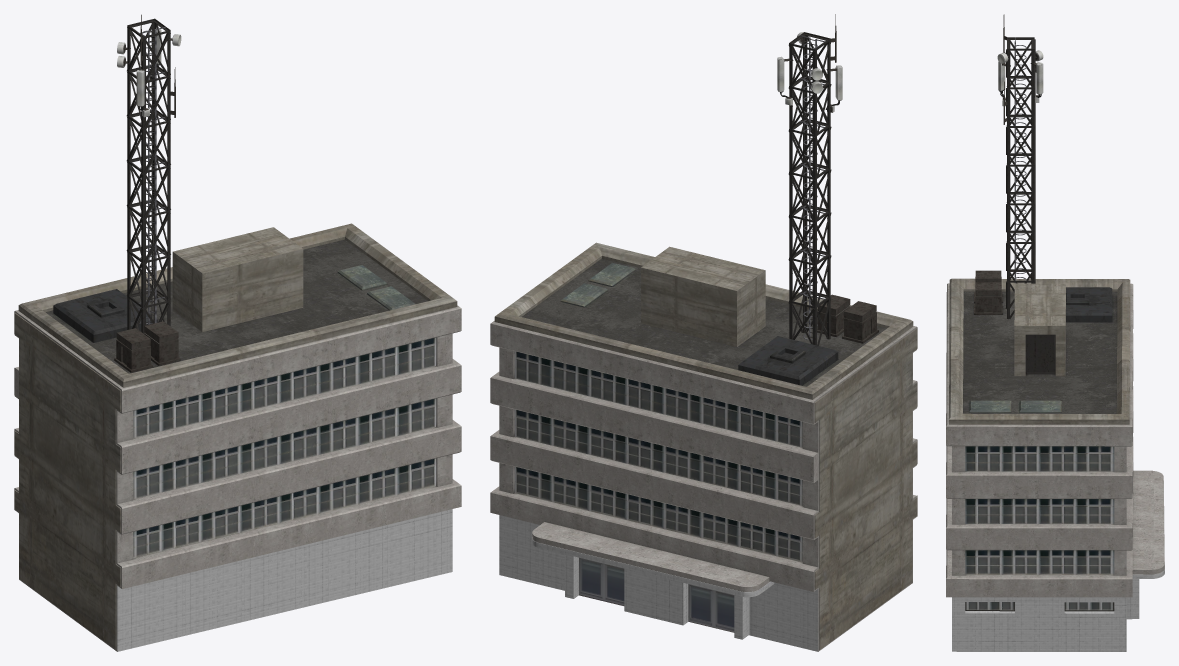
File: bld22_20a.glb
3 renders of one model, left to right at view 1: azimuth 30°, elevation 25°; view 2: azimuth 150°, elevation 25°; view 3: azimuth 270°, elevation 25°, orthographic. The views are drawn at different scales.
Visible parts, largest first — view 1: bld22_20a; view 2: bld22_20a; view 3: bld22_20a.
Boxes of the visible parts, box(x1,y1,x2,y2) form: bld22_20a: box(14, 14, 461, 651); bld22_20a: box(490, 14, 917, 651); bld22_20a: box(946, 14, 1164, 651).
Size of the model in its own units: 38.97 by 66.12 by 25.22.
1 material, 1 textured.
